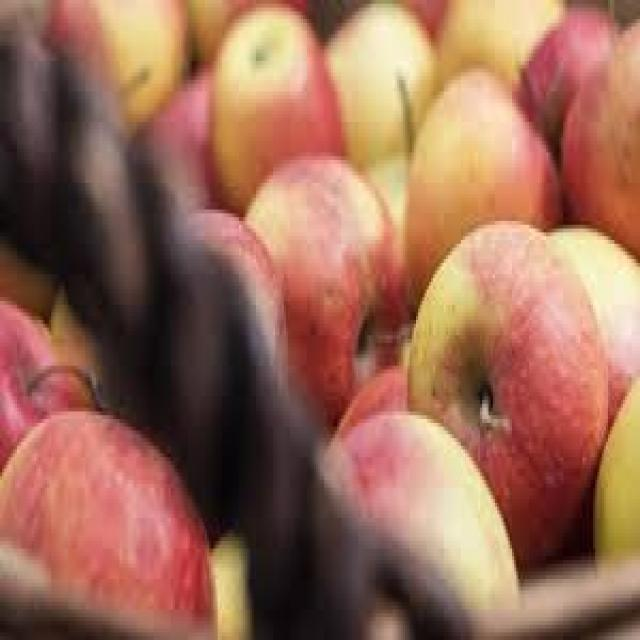organic waste: (410, 213, 612, 568), (0, 400, 213, 636), (322, 404, 519, 636), (241, 149, 399, 415), (401, 61, 561, 301), (205, 0, 343, 198), (181, 202, 286, 419), (559, 8, 638, 259), (322, 0, 435, 164), (47, 0, 192, 126), (544, 221, 638, 411), (0, 297, 102, 461), (514, 8, 617, 152), (589, 331, 638, 560), (435, 0, 561, 80), (134, 65, 207, 194), (363, 141, 418, 309), (188, 0, 305, 69), (45, 282, 102, 400), (333, 354, 405, 434), (209, 526, 252, 636)
